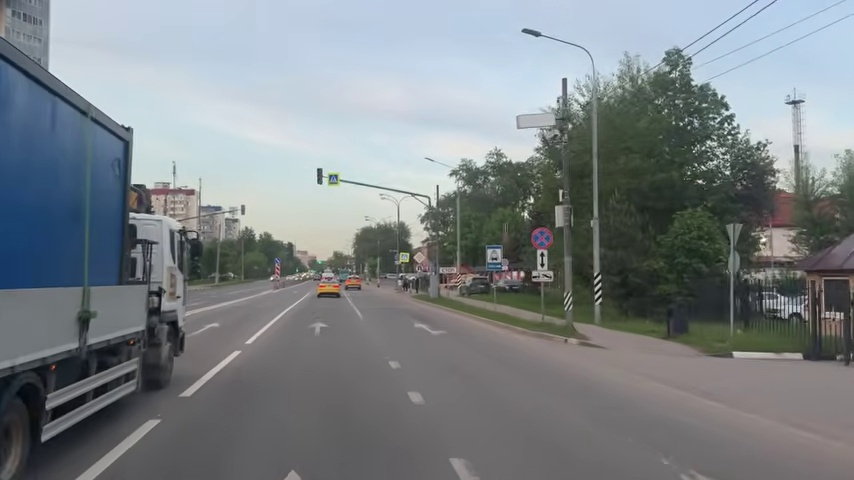acesa: (407, 390, 424, 406)
apagada: (784, 94, 807, 115), (520, 25, 542, 41)
